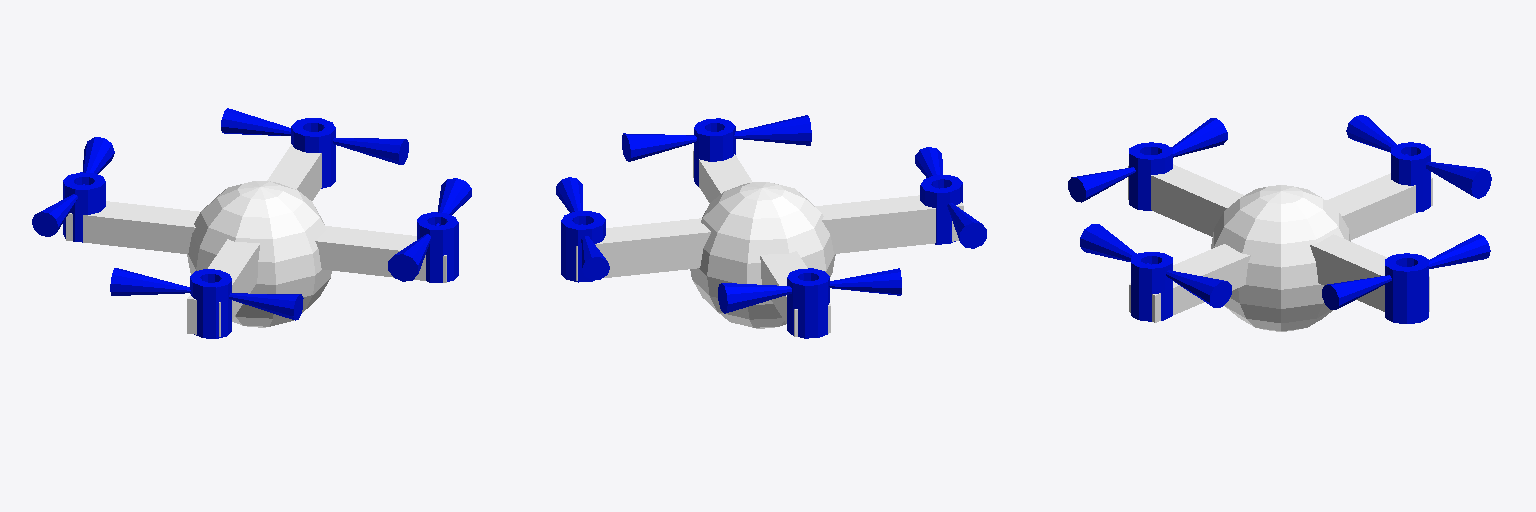
File: dronegr.obj
3 renders of one model, left to right at view 1: azimuth 30°, elevation 25°; view 2: azimuth 150°, elevation 25°; view 3: azimuth 270°, elevation 25°, orthographic.
Visible parts, largest first — view 1: 011_Sphere, 007_Tube_2, 009_Tube_3, 010_Tube, 008_Tube_1, 003_Cone_4, 005_Cone_1, 006_Cone, 004_Cone_3; view 2: 011_Sphere, 008_Tube_1, 010_Tube, 007_Tube_2, 009_Tube_3, 004_Cone_3, 003_Cone_4, 006_Cone, 005_Cone_1; view 3: 011_Sphere, 010_Tube, 009_Tube_3, 007_Tube_2, 008_Tube_1, 004_Cone_3, 005_Cone_1, 003_Cone_4, 006_Cone.
Part boxes in pixels (bbox=[...]): 011_Sphere: bbox=[66, 144, 446, 336]; 007_Tube_2: bbox=[190, 269, 231, 338]; 009_Tube_3: bbox=[417, 212, 458, 282]; 010_Tube: bbox=[291, 118, 335, 188]; 008_Tube_1: bbox=[63, 172, 105, 242]; 003_Cone_4: bbox=[110, 268, 190, 295]; 005_Cone_1: bbox=[333, 138, 408, 164]; 006_Cone: bbox=[221, 108, 290, 135]; 004_Cone_3: bbox=[436, 178, 471, 225]; 011_Sphere: bbox=[576, 115, 963, 336]; 008_Tube_1: bbox=[787, 268, 829, 338]; 010_Tube: bbox=[561, 211, 605, 282]; 007_Tube_2: bbox=[920, 175, 962, 244]; 009_Tube_3: bbox=[694, 118, 735, 186]; 004_Cone_3: bbox=[622, 133, 696, 161]; 003_Cone_4: bbox=[947, 203, 986, 248]; 006_Cone: bbox=[581, 236, 609, 279]; 005_Cone_1: bbox=[556, 177, 582, 224]; 011_Sphere: bbox=[1080, 164, 1432, 331]; 010_Tube: bbox=[1385, 253, 1428, 323]; 009_Tube_3: bbox=[1131, 252, 1172, 321]; 007_Tube_2: bbox=[1129, 142, 1172, 210]; 008_Tube_1: bbox=[1391, 142, 1430, 212]; 004_Cone_3: bbox=[1166, 270, 1231, 307]; 005_Cone_1: bbox=[1322, 275, 1391, 309]; 003_Cone_4: bbox=[1171, 118, 1227, 157]; 006_Cone: bbox=[1429, 234, 1490, 268].
Size of the model in its own units: 284 by 100 by 285.